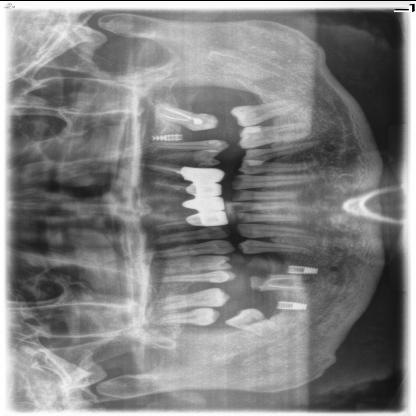Bicon: (273, 299, 314, 311), (286, 261, 321, 274)
